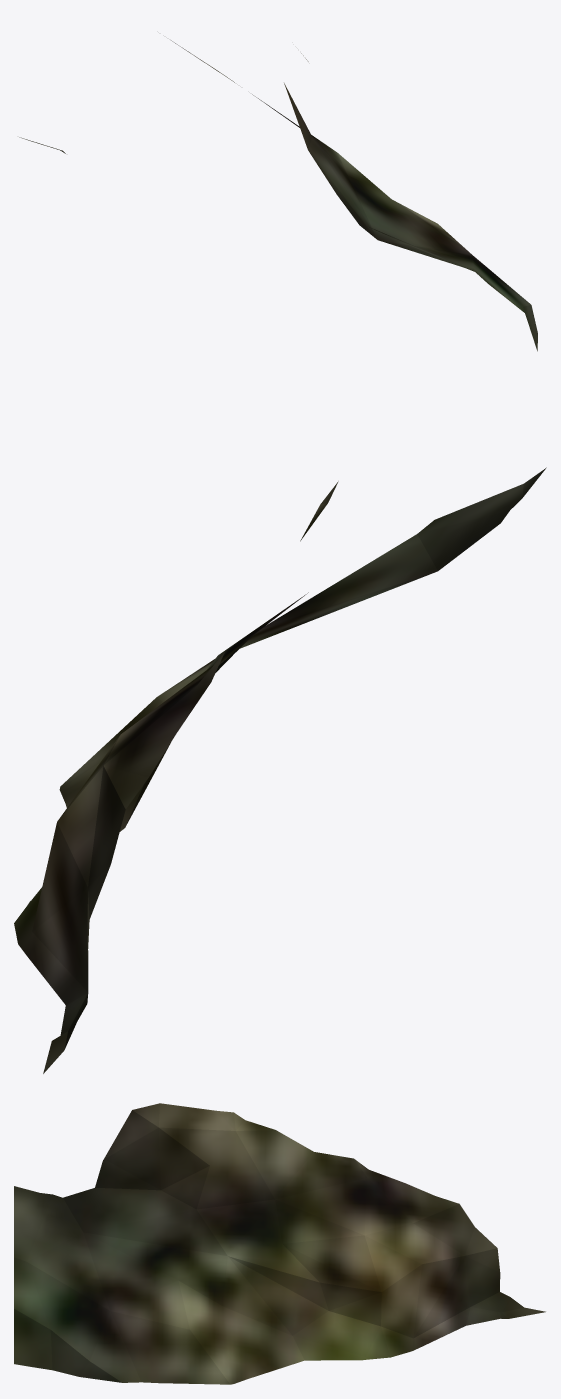
3 views of the same model, one above another, from view 1: azimuth 30°, elevation 25°; view 2: azimuth 150°, elevation 25°; view 3: azimuth 270°, elevation 25° (orthographic). The views are drawn at different scales.
Bounding box in the file's own units: 0.114 × 0.1524 × 0.3527.
1 material, 1 textured.
